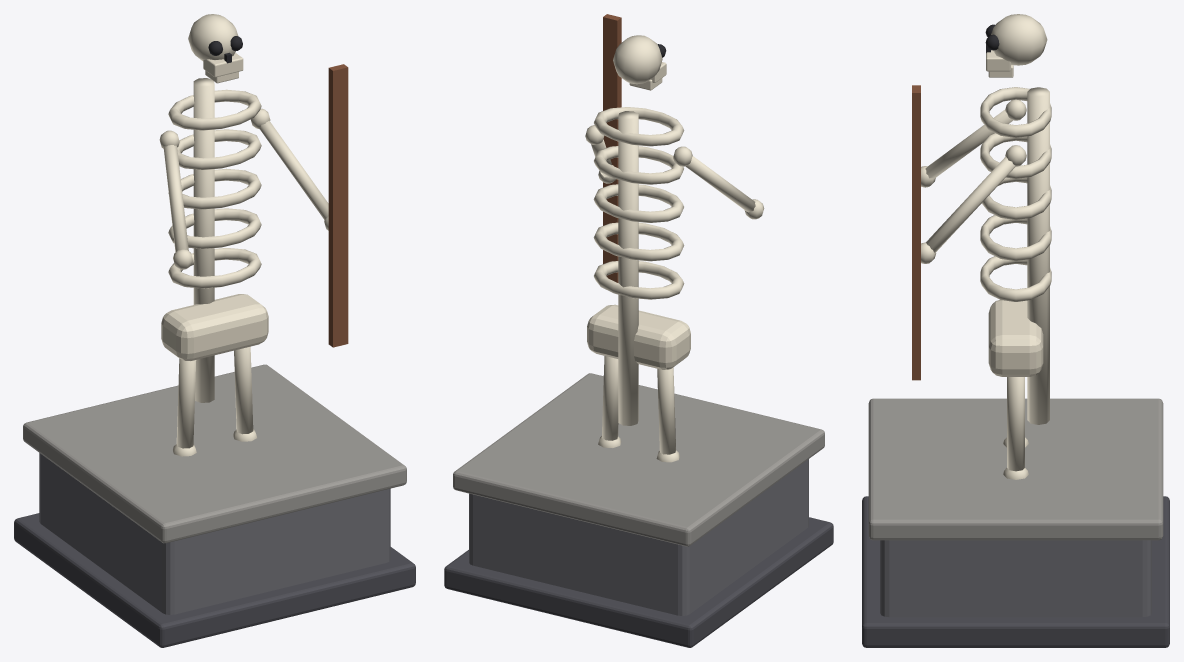
The model's file is statue_skeleton_warrior.glb.
3 renders of one model, left to right at view 1: azimuth 30°, elevation 25°; view 2: azimuth 150°, elevation 25°; view 3: azimuth 270°, elevation 25°, orthographic. The views are drawn at different scales.
Visible parts, largest first — view 1: GD_statue_skeleton_warrior__m3, GD_statue_skeleton_warrior__m2, GD_statue_skeleton_warrior__m0, GD_statue_skeleton_warrior__m1, GD_statue_skeleton_warrior__m6; view 2: GD_statue_skeleton_warrior__m3, GD_statue_skeleton_warrior__m2, GD_statue_skeleton_warrior__m0, GD_statue_skeleton_warrior__m1, GD_statue_skeleton_warrior__m6; view 3: GD_statue_skeleton_warrior__m3, GD_statue_skeleton_warrior__m2, GD_statue_skeleton_warrior__m0, GD_statue_skeleton_warrior__m1, GD_statue_skeleton_warrior__m6.
Part boxes in pixels (box(x1,y1,x2,y2)): GD_statue_skeleton_warrior__m3: box(23, 364, 406, 543); GD_statue_skeleton_warrior__m2: box(159, 14, 328, 456); GD_statue_skeleton_warrior__m0: box(39, 453, 390, 614); GD_statue_skeleton_warrior__m1: box(14, 513, 415, 647); GD_statue_skeleton_warrior__m6: box(328, 64, 348, 347); GD_statue_skeleton_warrior__m3: box(453, 373, 824, 546); GD_statue_skeleton_warrior__m2: box(585, 35, 764, 462); GD_statue_skeleton_warrior__m0: box(469, 459, 808, 615); GD_statue_skeleton_warrior__m1: box(444, 517, 833, 647); GD_statue_skeleton_warrior__m6: box(603, 14, 621, 282); GD_statue_skeleton_warrior__m3: box(868, 398, 1163, 540); GD_statue_skeleton_warrior__m2: box(921, 14, 1051, 479); GD_statue_skeleton_warrior__m0: box(880, 540, 1151, 617); GD_statue_skeleton_warrior__m1: box(862, 496, 1169, 647); GD_statue_skeleton_warrior__m6: box(912, 85, 920, 380).
Size of the model in its own units: 0.68 by 1.38 by 0.68.
